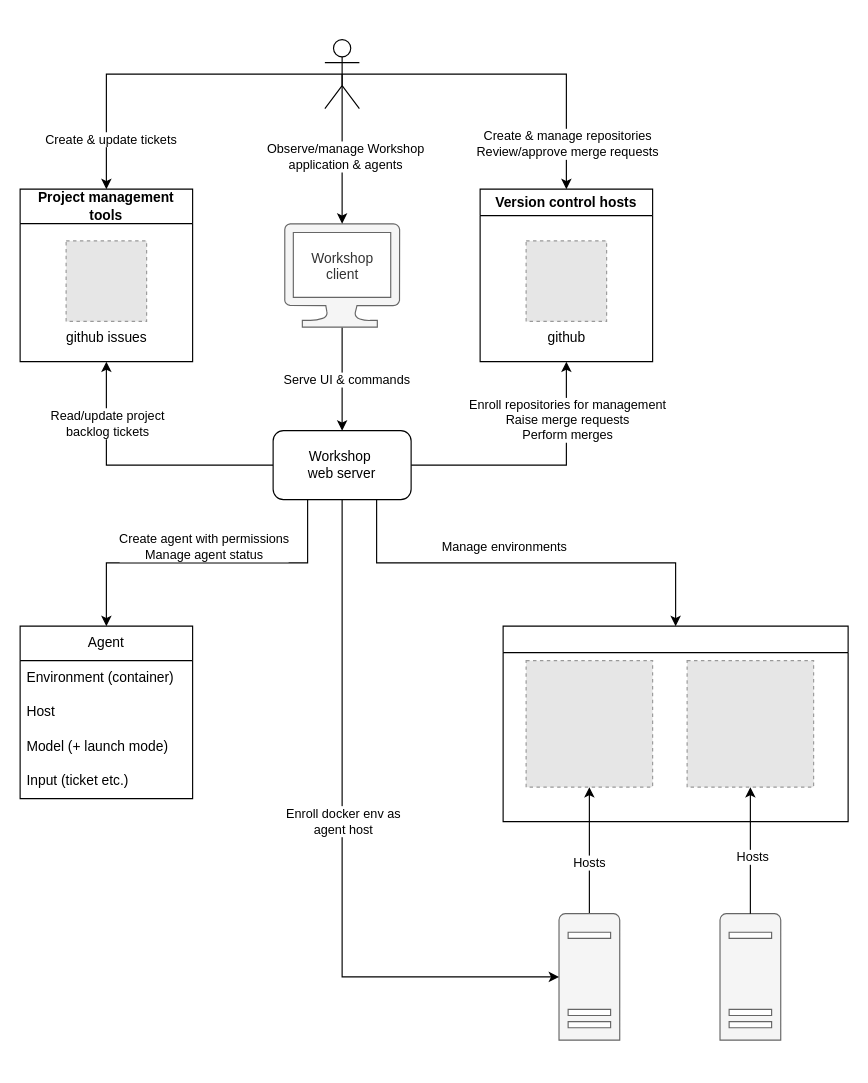
Image size: 868x1083. Some labels were removed from this diagram. Grey dashed boxes stand in for pictures. The shapes that lost their labels are listed below. From the top down, each one's box as (x1, y1, x2, y2) in pixels, then its label:
(324, 39, 359, 109): User
(502, 625, 848, 822): Environments
(558, 913, 620, 1040): Host 1 + specs
(719, 913, 781, 1040): Host 2 + specs
